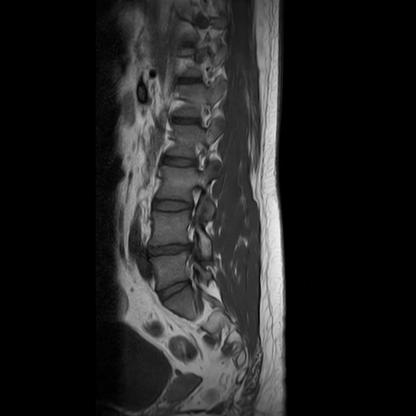Disc Bulgerotation: (147, 242, 191, 258)
